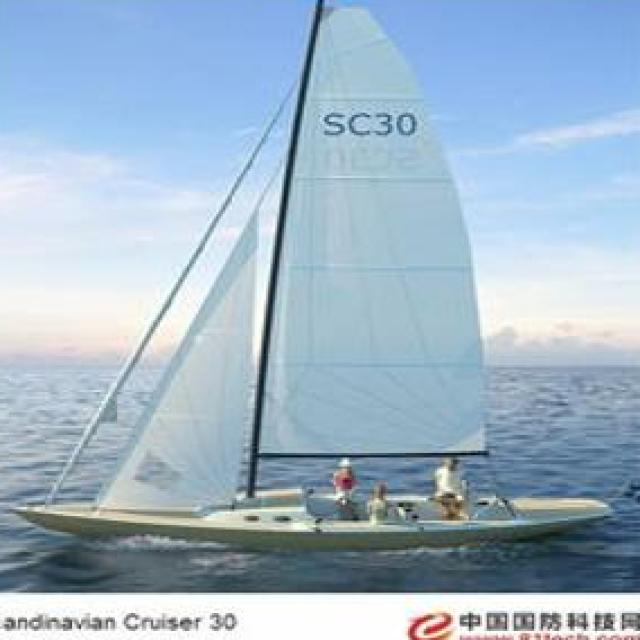sailboat: (25, 0, 622, 543)
